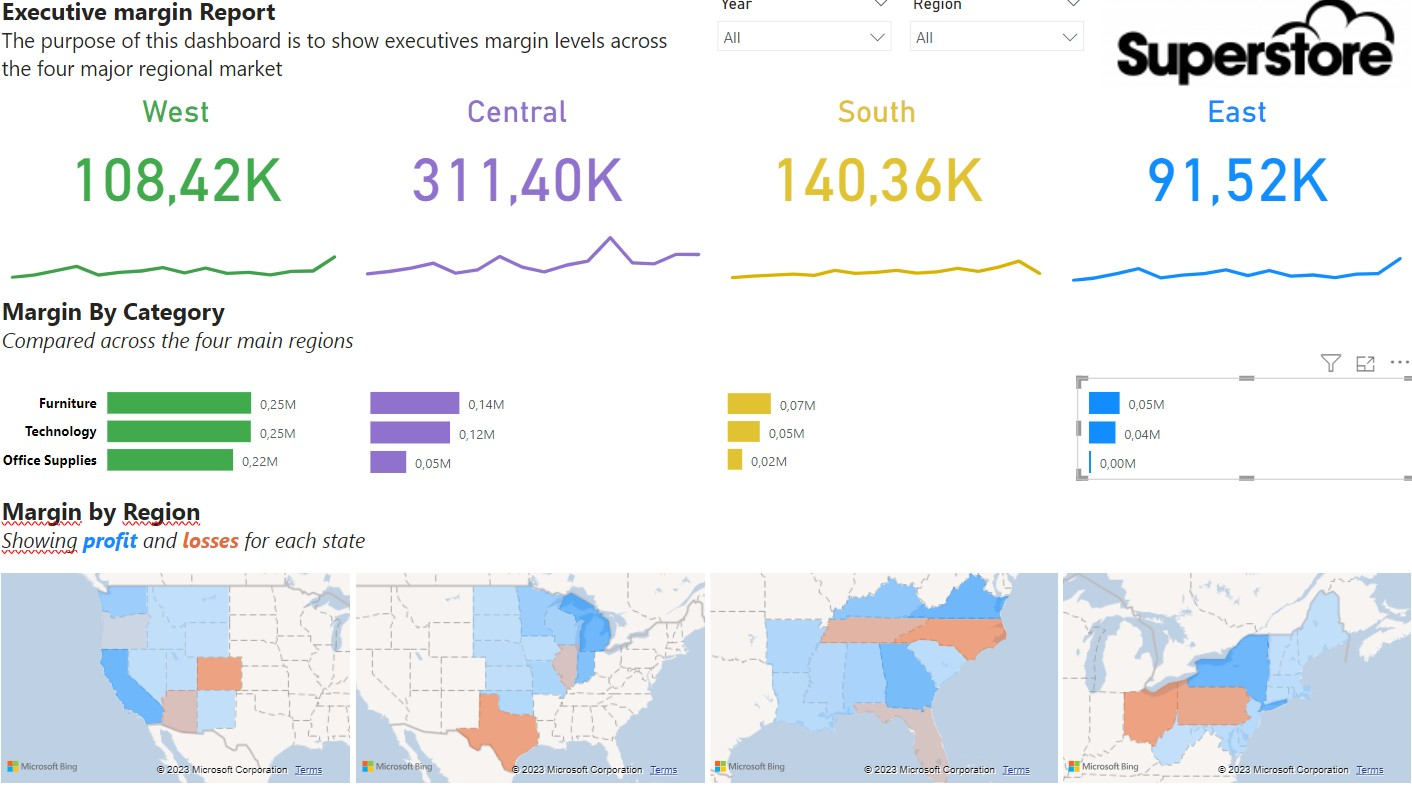

This screenshot's page, from the dashboard's own definition file:
{"tool":"powerbi","page":{"name":"Page 2","canvas":[1280,720],"ordinal":1},"visuals":[{"type":"lineChart","fields":{"Y":["Sum(Orders.Profit)"],"Category":["Orders.Order Date.Variation.Date Hierarchy.Year","Orders.Order Date.Variation.Date Hierarchy.Quarter","Orders.Order Date.Variation.Date Hierarchy.Month","Orders.Order Date.Variation.Date Hierarchy.Day"]},"box":[956.3,202,324.3,67.3],"z":0},{"type":"textbox","box":[0,290,256,150],"z":1000},{"type":"textbox","box":[0,0,640.3,94.6],"z":2000},{"type":"slicer","fields":{"Values":["Orders.Order Date.Variation.Date Hierarchy.Year"]},"box":[640.3,0,176.9,94.6],"z":3000},{"type":"slicer","fields":{"Values":["Orders.Region"]},"box":[813,0,176.9,94.6],"z":4000},{"type":"image","box":[989.9,0,290.7,94.6],"z":5000},{"type":"card","title":"West","fields":{"Values":["Sum(Orders.Profit)"]},"box":[0,94.1,324.2,109.2],"z":6000},{"type":"card","title":"Central","fields":{"Values":["Sum(Orders.Profit)"]},"box":[290.5,94.1,357.9,109.2],"z":7000},{"type":"card","title":"South","fields":{"Values":["Sum(Orders.Profit)"]},"box":[632.1,94.1,324.2,109.2],"z":8000},{"type":"barChart","fields":{"Y":["Sum(Orders.Sales)"],"Category":["Orders.Category"]},"box":[0,340.7,362.2,110.4],"z":9000},{"type":"barChart","fields":{"Y":["Sum(Orders.Profit)"],"Category":["Orders.Category"]},"box":[327,350.5,311.9,92.5],"z":10000},{"type":"barChart","fields":{"Y":["Sum(Orders.Profit)"],"Category":["Orders.Category"]},"box":[648.6,351.9,303.6,88.3],"z":11000},{"type":"lineChart","fields":{"Y":["Sum(Orders.Profit)"],"Category":["Orders.Order Date.Variation.Date Hierarchy.Year","Orders.Order Date.Variation.Date Hierarchy.Quarter","Orders.Order Date.Variation.Date Hierarchy.Month","Orders.Order Date.Variation.Date Hierarchy.Day"]},"box":[320.5,208.7,328.6,61.9],"z":12000},{"type":"lineChart","fields":{"Y":["Sum(Orders.Profit)"],"Category":["Orders.Order Date.Variation.Date Hierarchy.Year","Orders.Order Date.Variation.Date Hierarchy.Quarter","Orders.Order Date.Variation.Date Hierarchy.Month","Orders.Order Date.Variation.Date Hierarchy.Day"]},"box":[649,208.7,307,60.6],"z":13000},{"type":"textbox","box":[0,270.7,1280.5,70],"z":14000},{"type":"textbox","box":[0,451.1,1280.5,70],"z":15000},{"type":"card","title":"East","fields":{"Values":["Sum(Orders.Profit)"]},"box":[956.3,94.1,324.2,109.2],"z":16000},{"type":"barChart","fields":{"Category":["Orders.Category"],"Y":["Sum(Orders.Profit)"]},"box":[974.2,350.5,306.3,92.5],"z":17000},{"type":"lineChart","fields":{"Y":["Sum(Orders.Profit)"],"Category":["Orders.Order Date.Variation.Date Hierarchy.Year","Orders.Order Date.Variation.Date Hierarchy.Quarter","Orders.Order Date.Variation.Date Hierarchy.Month","Orders.Order Date.Variation.Date Hierarchy.Day"]},"box":[0,202,320.5,64.6],"z":18000},{"type":"filledMap","fields":{"Category":["Orders.State"]},"box":[956.3,521.6,324.3,198.7],"z":19000},{"type":"filledMap","fields":{"Category":["Orders.State"]},"box":[637.5,521.6,324.3,198.7],"z":19001},{"type":"filledMap","fields":{"Category":["Orders.State"]},"box":[320.1,521.6,324.3,198.7],"z":19002},{"type":"filledMap","fields":{"Category":["Orders.State"]},"box":[0,521.6,324.3,198.7],"z":19003}]}

Visuals, with their boxes in screenshot pixels (x1, y1, x2, y2), scaled from the page's 1280x720 canvas onto the 1412x786 screenshot:
lineChart - Sum(Orders.Profit) x Orders.Order Date.Variation.Date Hierarchy.Year: {"x1": 1055, "y1": 221, "x2": 1411, "y2": 294}
textbox: {"x1": 0, "y1": 317, "x2": 282, "y2": 480}
textbox: {"x1": 0, "y1": 0, "x2": 706, "y2": 103}
slicer - Orders.Order Date.Variation.Date Hierarchy.Year: {"x1": 706, "y1": 0, "x2": 901, "y2": 103}
slicer - Orders.Region: {"x1": 897, "y1": 0, "x2": 1092, "y2": 103}
image: {"x1": 1092, "y1": 0, "x2": 1411, "y2": 103}
"West" card: {"x1": 0, "y1": 103, "x2": 358, "y2": 222}
"Central" card: {"x1": 320, "y1": 103, "x2": 715, "y2": 222}
"South" card: {"x1": 697, "y1": 103, "x2": 1055, "y2": 222}
barChart - Sum(Orders.Sales) x Orders.Category: {"x1": 0, "y1": 372, "x2": 400, "y2": 492}
barChart - Sum(Orders.Profit) x Orders.Category: {"x1": 361, "y1": 383, "x2": 705, "y2": 484}
barChart - Sum(Orders.Profit) x Orders.Category: {"x1": 715, "y1": 384, "x2": 1050, "y2": 481}
lineChart - Sum(Orders.Profit) x Orders.Order Date.Variation.Date Hierarchy.Year: {"x1": 354, "y1": 228, "x2": 716, "y2": 295}
lineChart - Sum(Orders.Profit) x Orders.Order Date.Variation.Date Hierarchy.Year: {"x1": 716, "y1": 228, "x2": 1055, "y2": 294}
textbox: {"x1": 0, "y1": 296, "x2": 1411, "y2": 372}
textbox: {"x1": 0, "y1": 492, "x2": 1411, "y2": 569}
"East" card: {"x1": 1055, "y1": 103, "x2": 1411, "y2": 222}
barChart - Orders.Category x Sum(Orders.Profit): {"x1": 1075, "y1": 383, "x2": 1411, "y2": 484}
lineChart - Sum(Orders.Profit) x Orders.Order Date.Variation.Date Hierarchy.Year: {"x1": 0, "y1": 221, "x2": 354, "y2": 291}
filledMap - Orders.State: {"x1": 1055, "y1": 569, "x2": 1411, "y2": 785}
filledMap - Orders.State: {"x1": 703, "y1": 569, "x2": 1061, "y2": 785}
filledMap - Orders.State: {"x1": 353, "y1": 569, "x2": 711, "y2": 785}
filledMap - Orders.State: {"x1": 0, "y1": 569, "x2": 358, "y2": 785}
